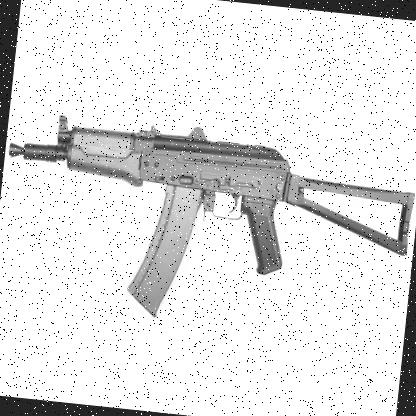rifle: (0, 78, 415, 338)
